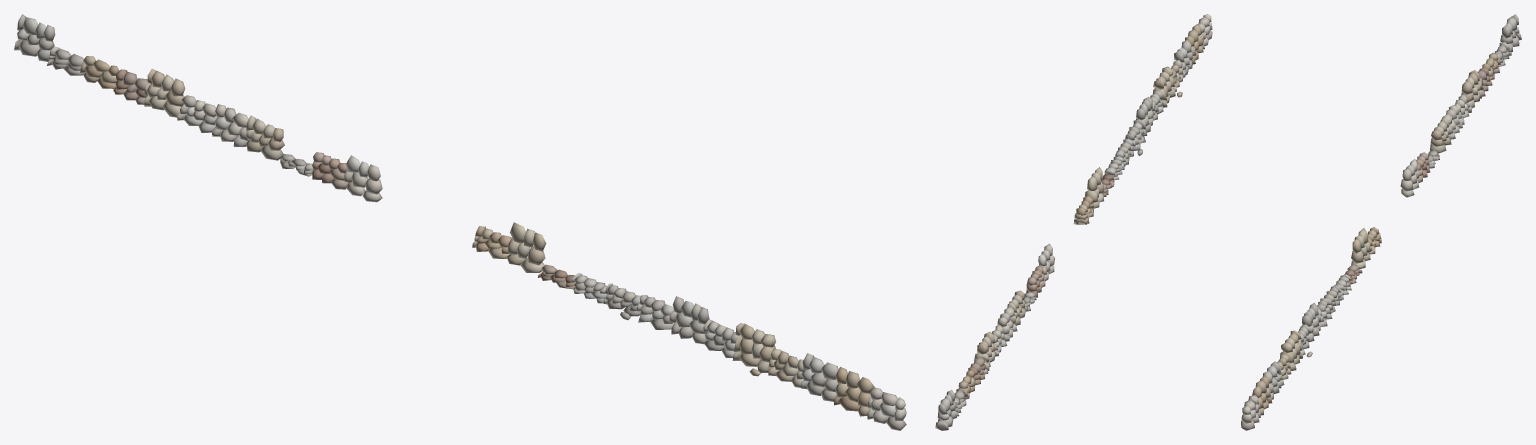
The model's file is farm_-2_14_near.glb.
3 renders of one model, left to right at view 1: azimuth 30°, elevation 25°; view 2: azimuth 150°, elevation 25°; view 3: azimuth 330°, elevation 25°, orthographic. The views are drawn at different scales.
Visible parts, largest first — view 1: geometry_0; view 2: geometry_0; view 3: geometry_0.
Part boxes in pixels (<box>): geometry_0: <box>14,14,906,430</box>; geometry_0: <box>935,14,1212,430</box>; geometry_0: <box>1241,14,1521,430</box>.
Bounding box in the file's own units: 10.63 × 1.63 × 40.96.
